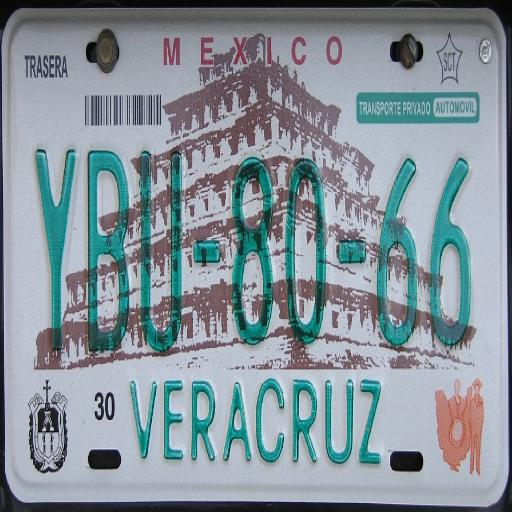estado_mexico_placas: (222, 377, 286, 461), (188, 381, 221, 459), (288, 380, 318, 460), (324, 380, 353, 461), (130, 381, 157, 457), (359, 380, 380, 463), (163, 381, 183, 458)
placas: (86, 149, 130, 350), (138, 150, 182, 350), (231, 157, 276, 344), (428, 158, 471, 346), (284, 158, 327, 344), (377, 158, 418, 345), (36, 150, 74, 348), (336, 239, 366, 263), (193, 239, 219, 263)
